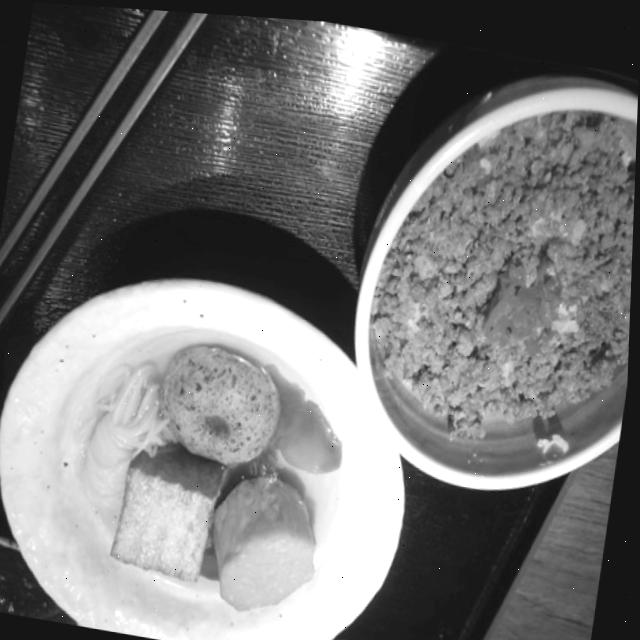汤锅炖物: (65, 319, 352, 618)
